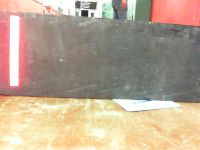switch: (9, 16, 19, 87)
